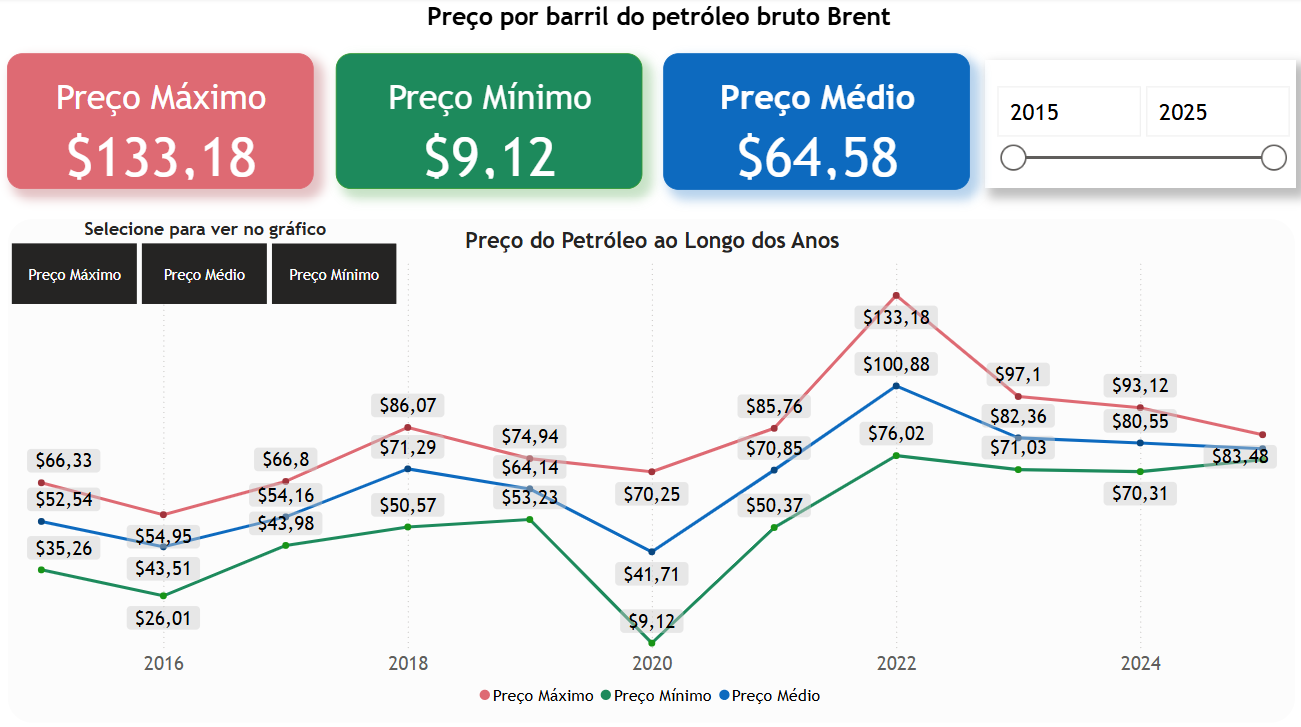

This screenshot's page, from the dashboard's own definition file:
{"tool":"powerbi","page":{"name":"Dash_Preço_Petróleo","canvas":[1280,720],"ordinal":0},"visuals":[{"type":"lineChart","title":"Preço do Petróleo ao Longo dos Anos","fields":{"Y":["base_preco_petroleo.preco_maximo","base_preco_petroleo.preco_min","base_preco_petroleo.preco_medio"],"Category":["base_preco_petroleo.Data.Variation.Hierarquia de datas.Ano","base_preco_petroleo.Data.Variation.Hierarquia de datas.Trimestre","base_preco_petroleo.Data.Variation.Hierarquia de datas.Mês","base_preco_petroleo.Data.Variation.Hierarquia de datas.Dia"]},"box":[9.8,216.4,1260.7,494],"z":0},{"type":"slicer","fields":{"Values":["base_preco_petroleo.Data.Variation.Hierarquia de datas.Ano"]},"box":[966,61.1,304.5,126],"z":1000},{"type":"cardVisual","fields":{"Data":["base_preco_petroleo.preco_maximo"]},"box":[10,55,300,133],"z":2000},{"type":"cardVisual","fields":{"Data":["base_preco_petroleo.preco_medio"]},"box":[651.2,55,300,133.8],"z":3000},{"type":"cardVisual","fields":{"Data":["base_preco_petroleo.preco_min"]},"box":[331.2,55,300,132.5],"z":4000},{"type":"advancedSlicerVisual","title":"Selecione para ver no gráfico","fields":{"Values":["Parâmetro.Parâmetro"]},"box":[9.8,216.4,387.6,89.3],"z":5000},{"type":"textbox","box":[415.8,0,481.8,55],"z":6000}]}

Visuals, with their boxes in screenshot pixels (x1, y1, x2, y2), scaled from the page's 1280x720 canvas onto the 1301x727 screenshot:
"Preço do Petróleo ao Longo dos Anos" lineChart: bbox(10, 219, 1291, 717)
slicer - base_preco_petroleo.Data.Variation.Hierarquia de datas.Ano: bbox(982, 62, 1291, 189)
cardVisual - base_preco_petroleo.preco_maximo: bbox(10, 56, 315, 190)
cardVisual - base_preco_petroleo.preco_medio: bbox(662, 56, 967, 191)
cardVisual - base_preco_petroleo.preco_min: bbox(337, 56, 642, 189)
"Selecione para ver no gráfico" advancedSlicerVisual: bbox(10, 219, 404, 309)
textbox: bbox(423, 0, 912, 56)
